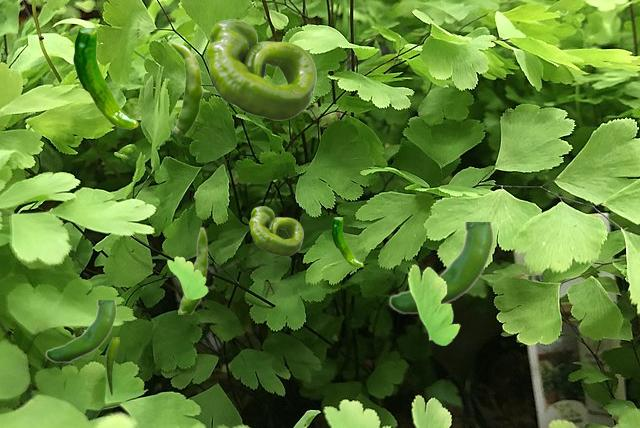green_chili: (206, 19, 315, 119), (388, 222, 492, 314), (73, 28, 137, 128), (45, 300, 115, 362), (170, 41, 202, 133), (249, 206, 302, 255), (178, 226, 207, 313), (331, 217, 362, 266), (106, 337, 118, 394)
